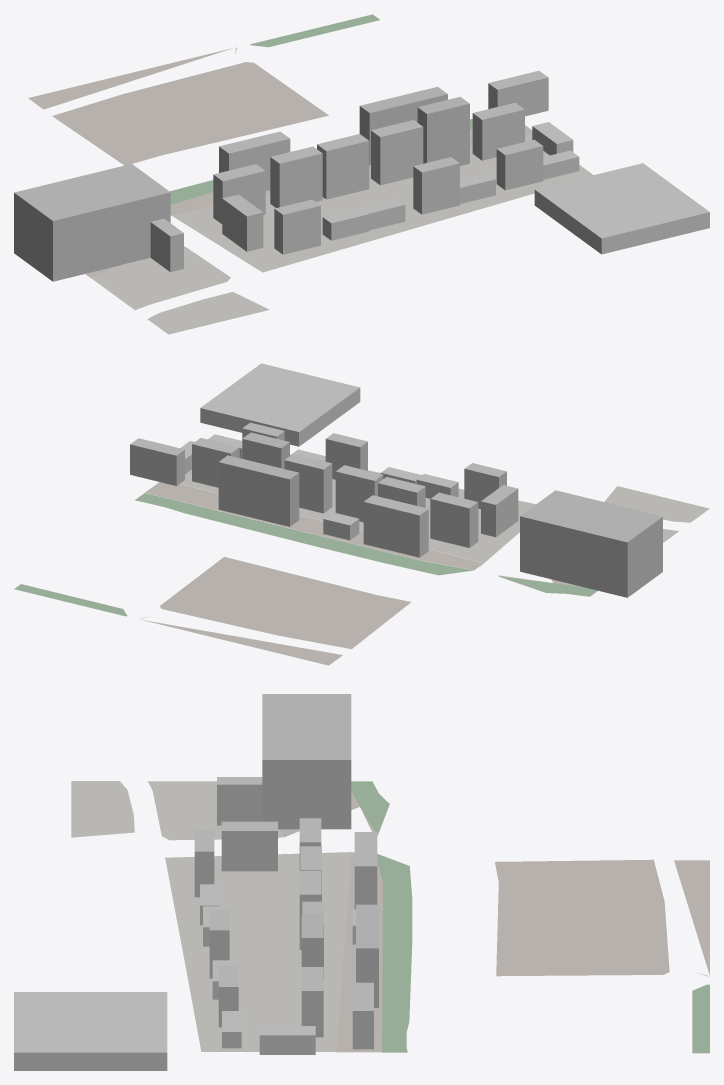
Rendered from 97_103_mid.glb.
3 views of the same model, one above another, from view 1: azimuth 30°, elevation 25°; view 2: azimuth 150°, elevation 25°; view 3: azimuth 270°, elevation 25° (orthographic). The views are drawn at different scales.
Bounding box in the file's own units: 568 × 61.52 × 545.
